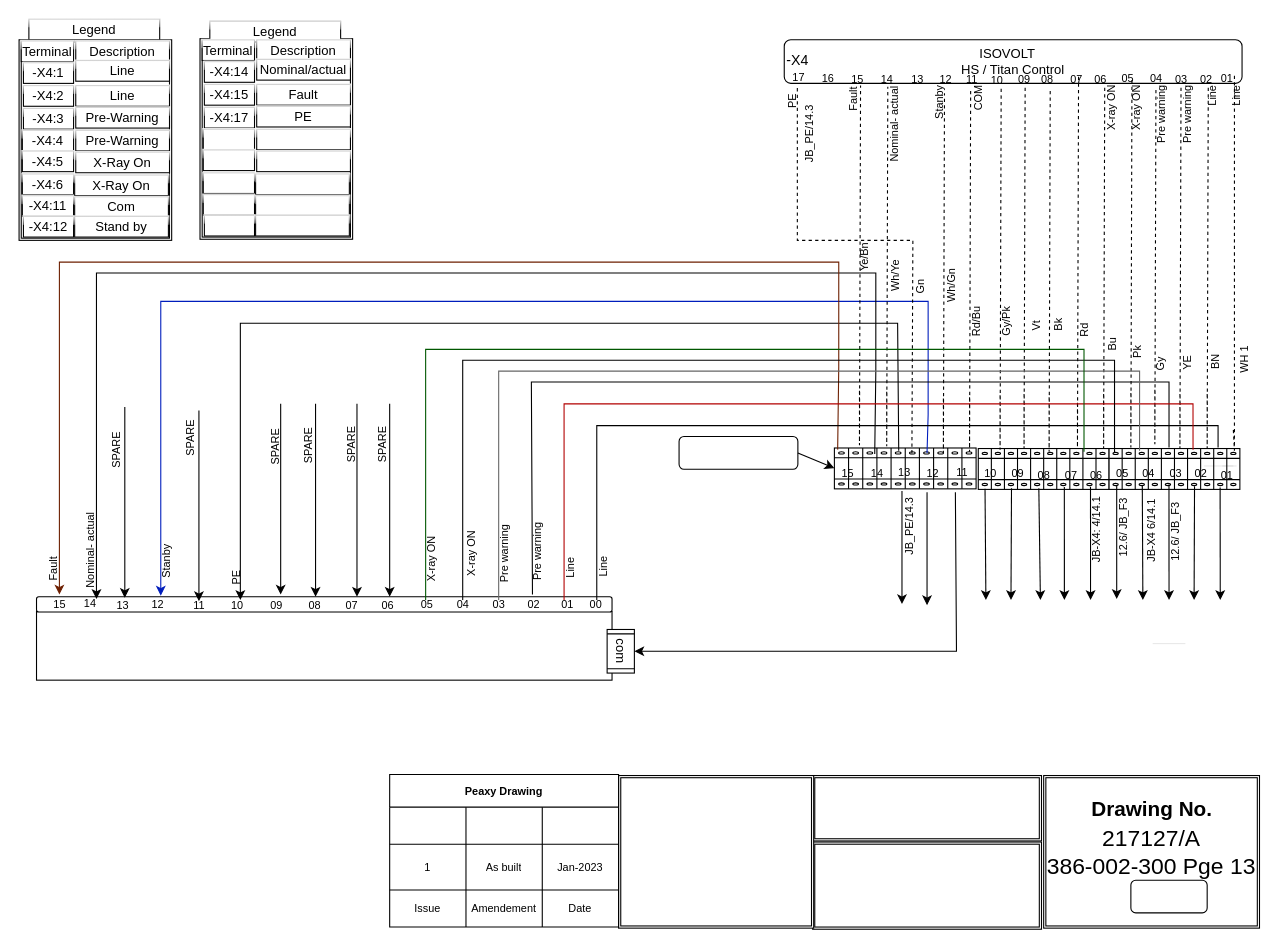
Image size: 1280x948. Some labels were removed from this diagram. The shapes that lost their labels are listed below. From the top down, each one's centre as x and y in pixels, then its label:
point (738, 452): JUNCTION Box X4
point (323, 645): Direct Logic DL205 I/O D2-16-ND3-2 PLC slot1
point (926, 807): TITLE
point (715, 851): PEAXY Inc Automation Specialist 2390 Bering Drive San Jose California 95131
point (926, 885): PH1 PLC control X-ray
point (1168, 896): Page 1
